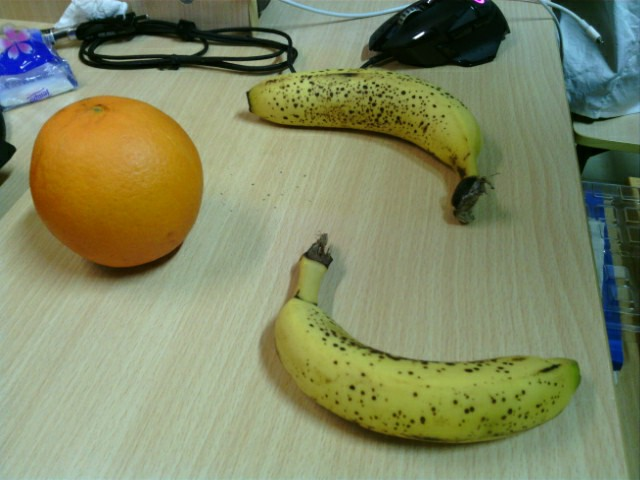normal_banana: (274, 233, 583, 447), (247, 67, 492, 224)
normal_orange: (30, 97, 205, 267)
